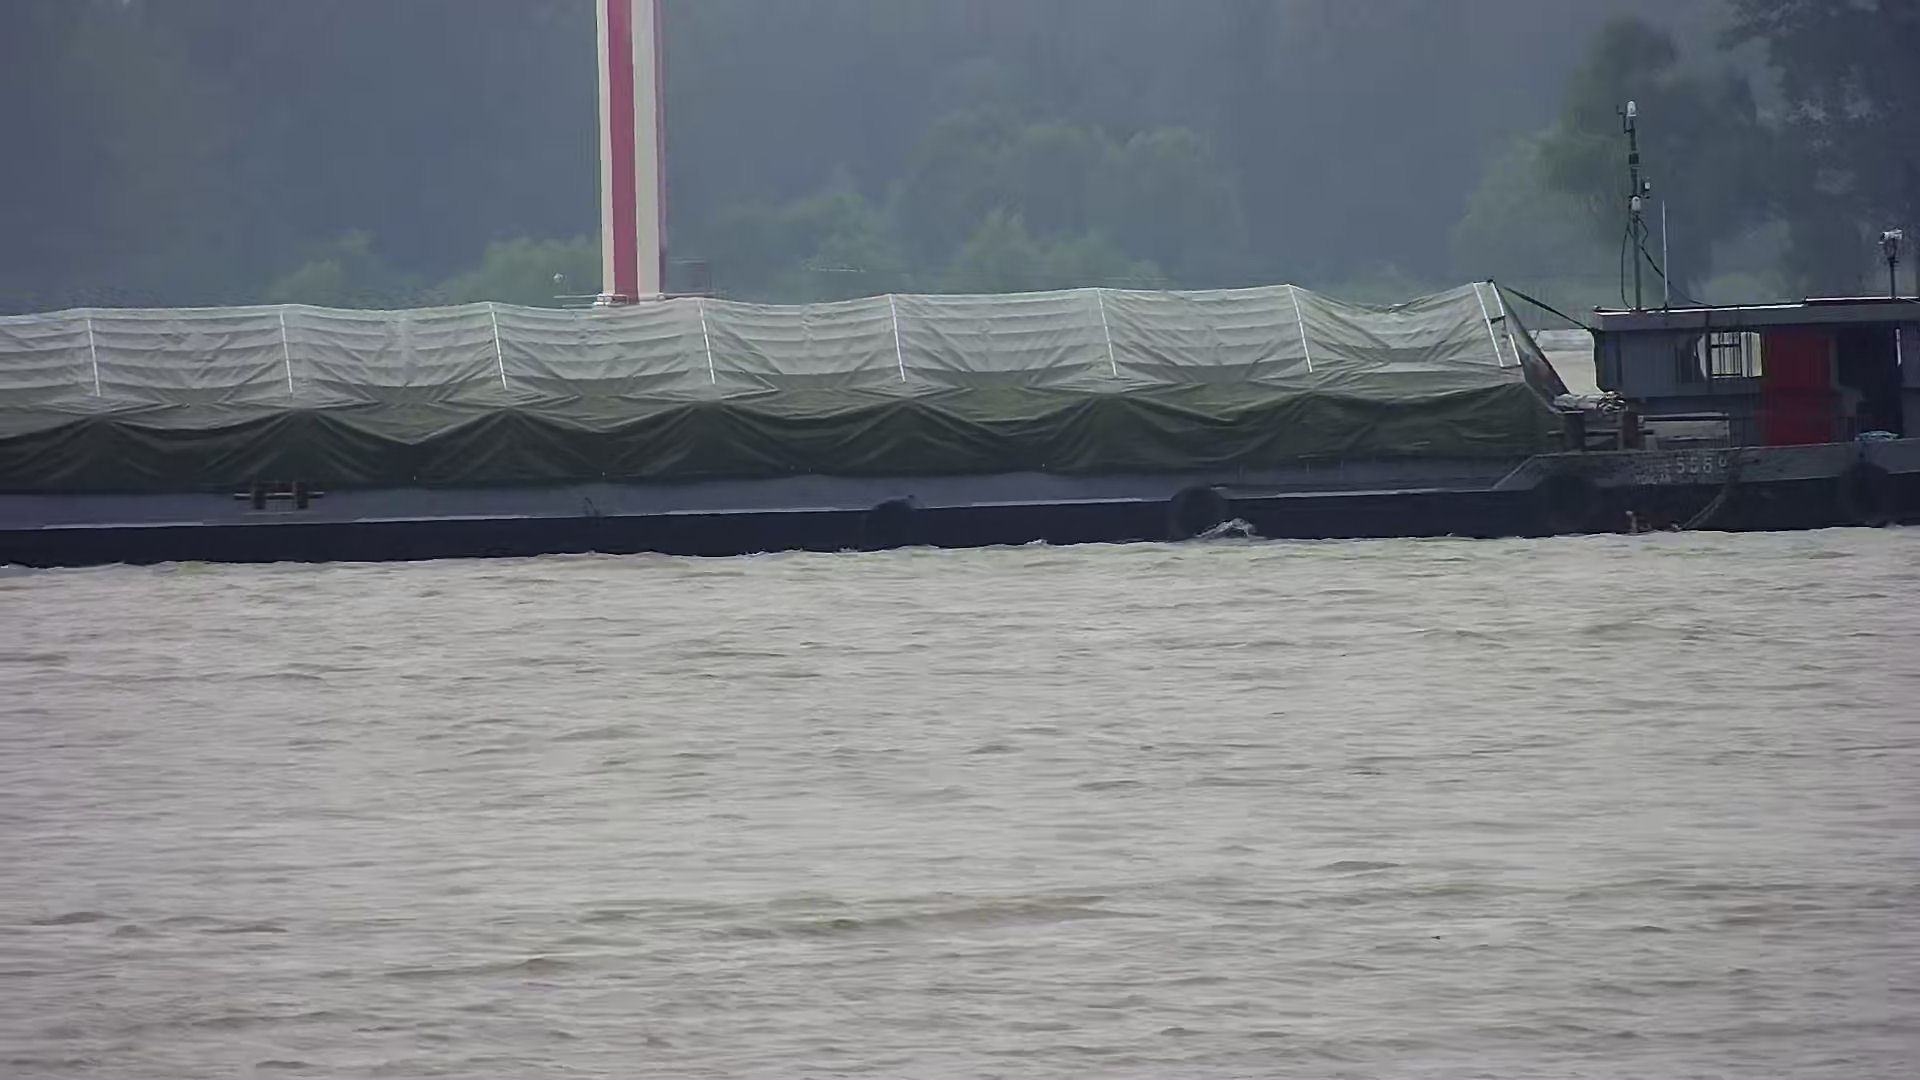platform: (549, 5, 712, 303)
ship: (1, 232, 1920, 568)
tree: (1544, 22, 1762, 309), (1724, 1, 1920, 298)
